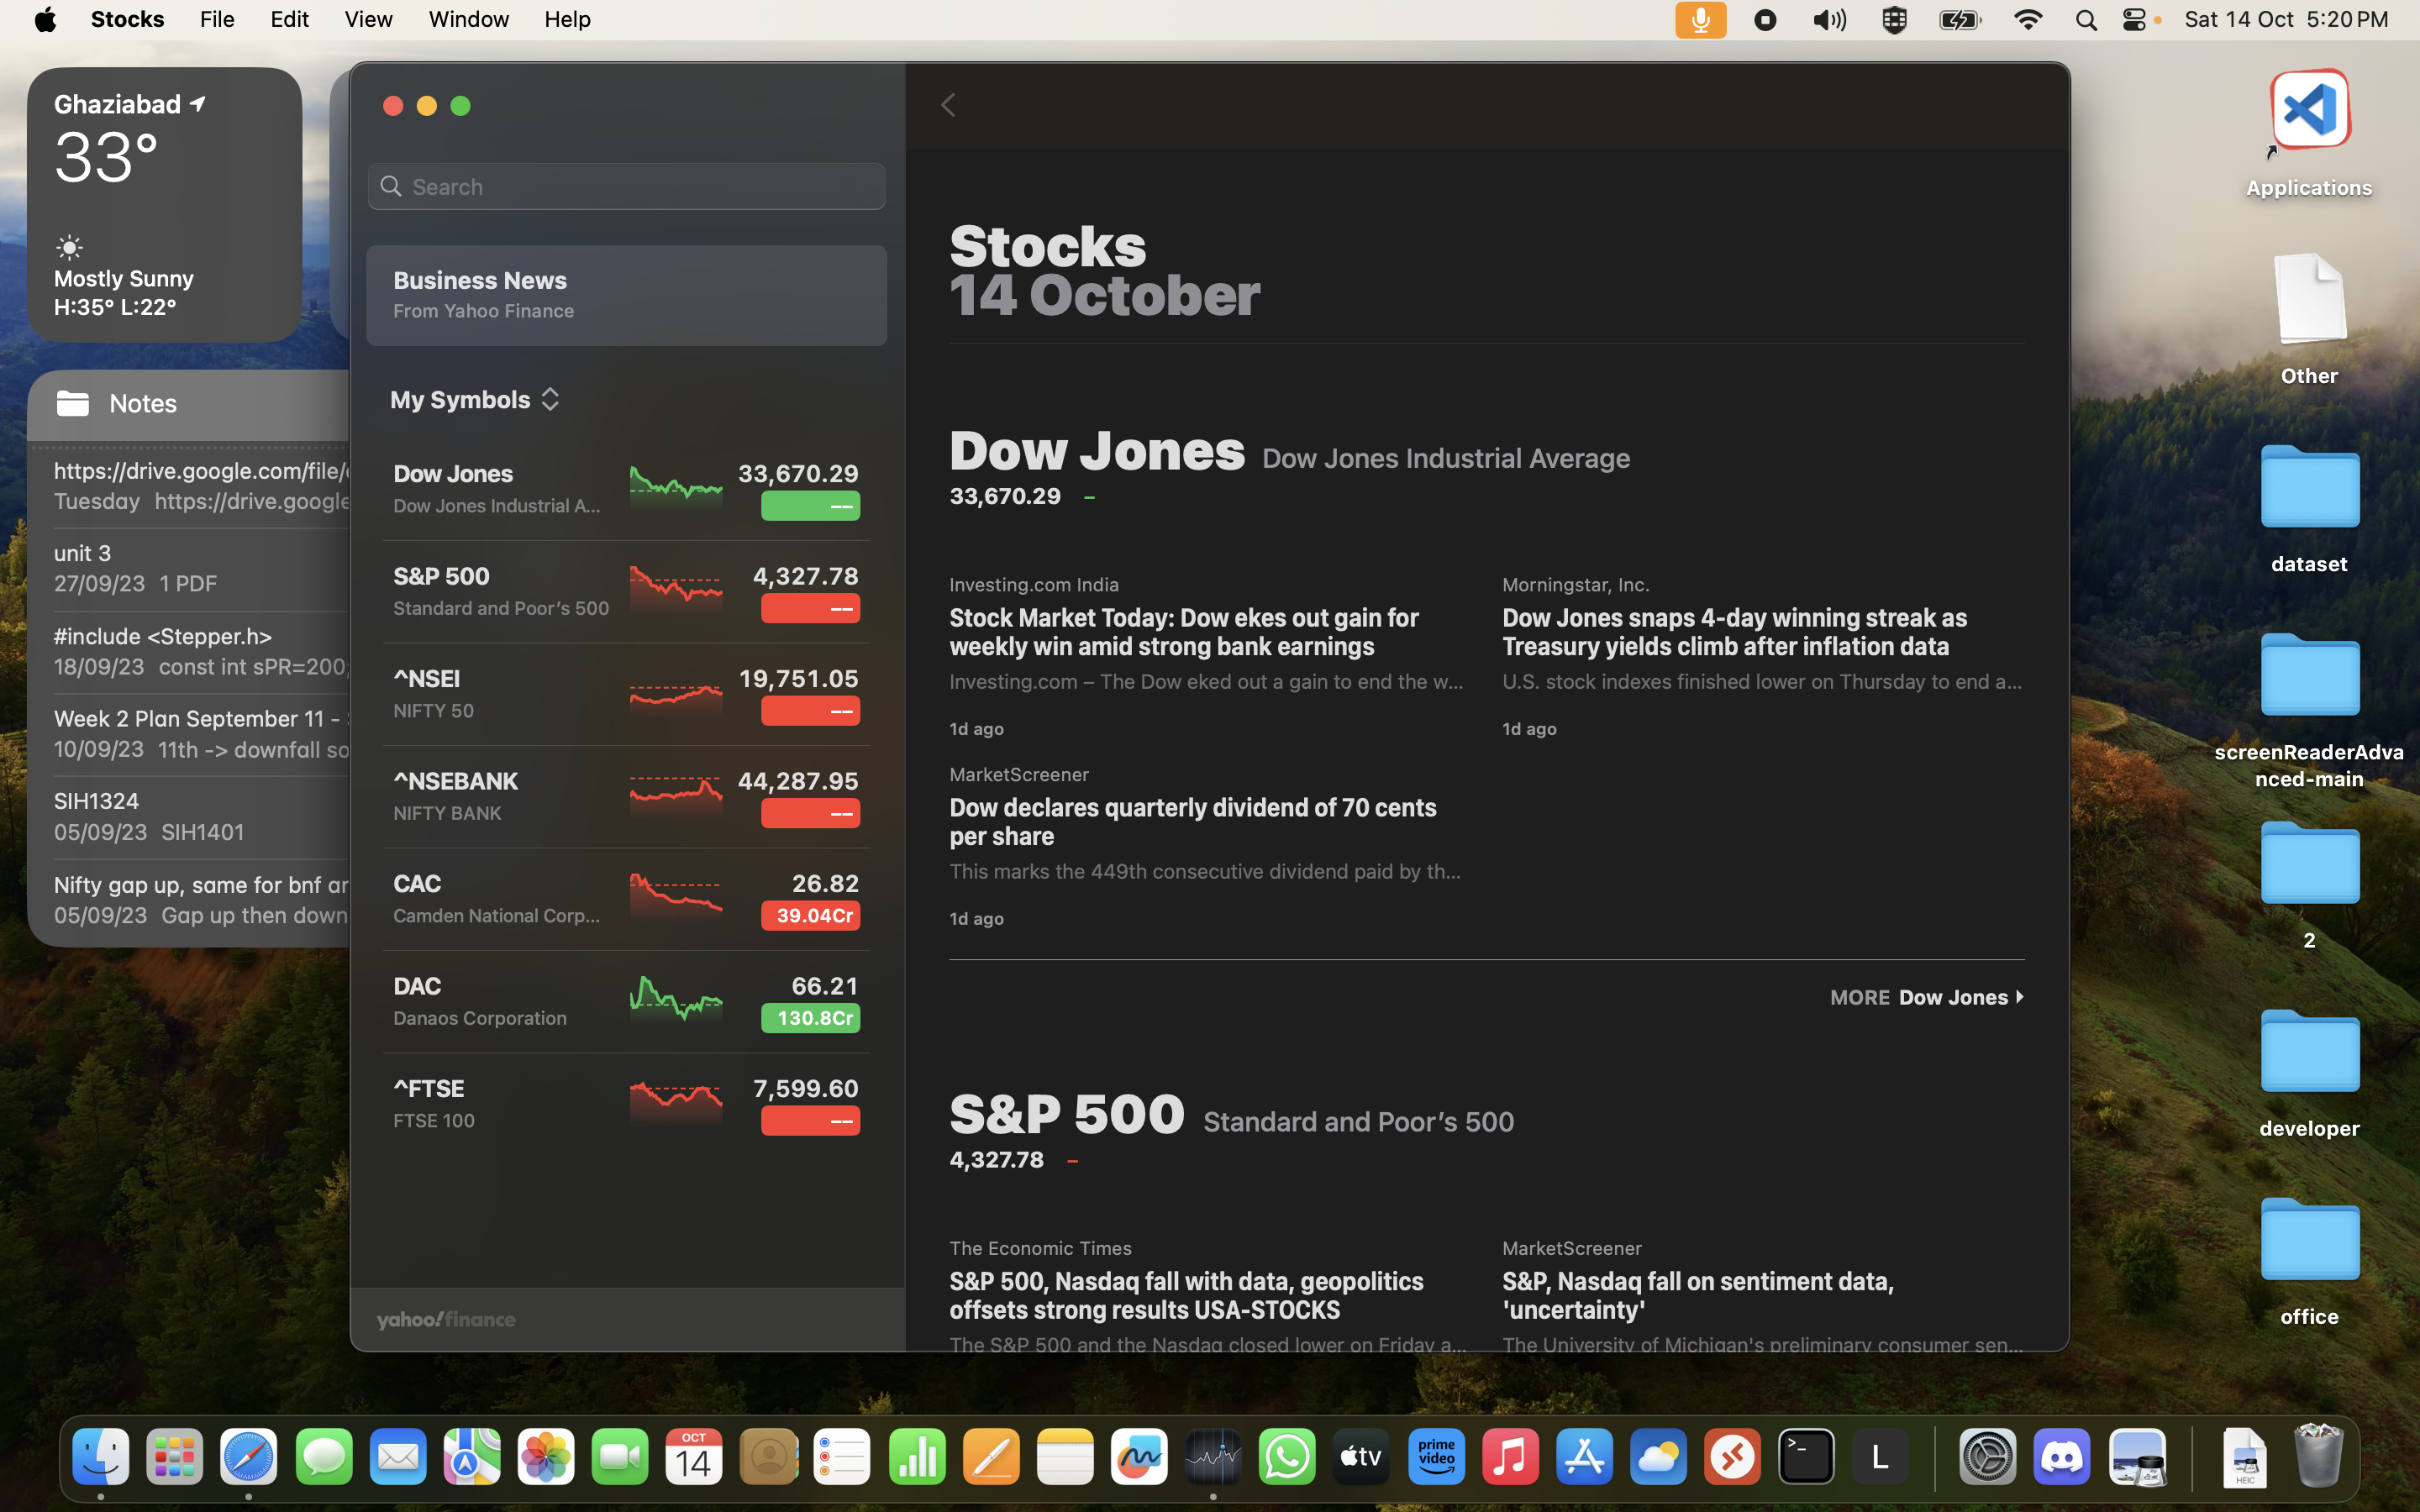Paragraph: (1498, 549, 2023, 712), (1481, 1221, 2051, 1364), (929, 754, 1495, 895), (932, 577, 1481, 719), (932, 1063, 1547, 1179), (932, 1239, 1474, 1364), (943, 432, 1632, 510), (936, 219, 1300, 350), (382, 850, 603, 946), (375, 556, 620, 641), (383, 453, 599, 535), (390, 960, 577, 1042), (383, 761, 549, 833), (383, 669, 521, 747), (375, 1073, 510, 1141), (1821, 981, 2040, 1023)
